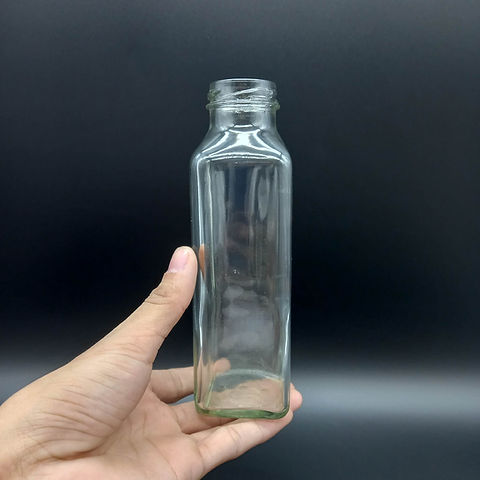glass_bottle: (187, 69, 303, 425)
